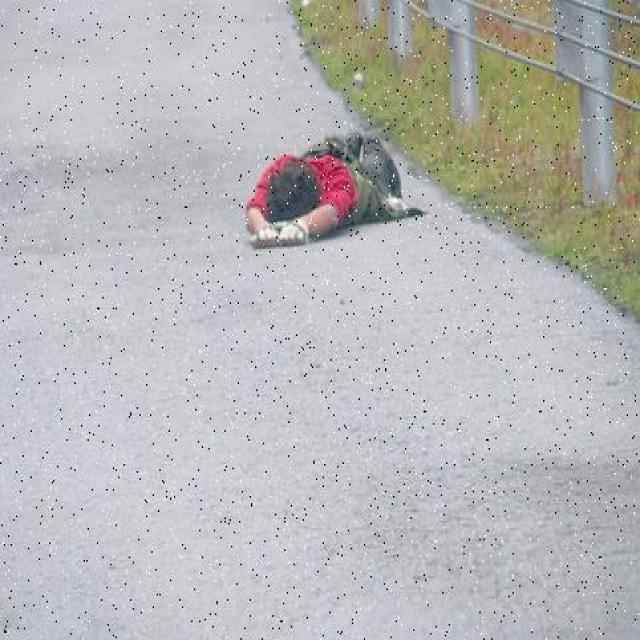fall: (252, 128, 404, 247)
